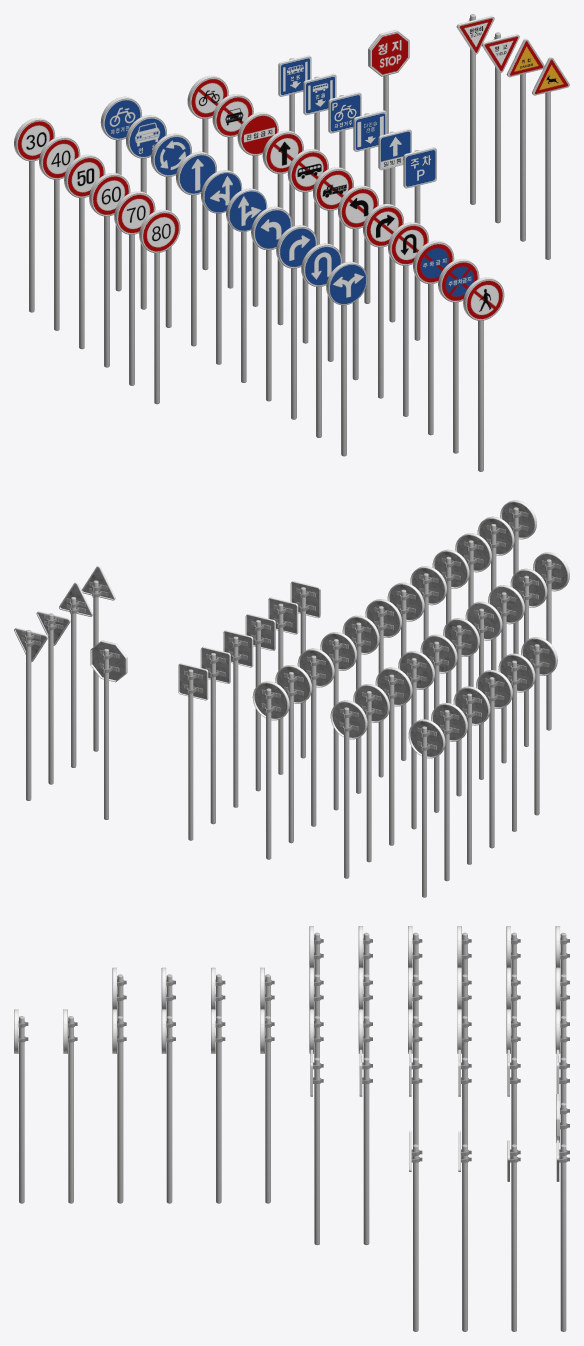
File: kr_road_signs_notbadworks.glb
3 views of the same model, one above another, from view 1: azimuth 30°, elevation 25°; view 2: azimuth 150°, elevation 25°; view 3: azimuth 270°, elevation 25° (orthographic). The views are drawn at different scales.
Visible parts, largest first — view 1: Base_LP_octogone_basenew, Base_LP_50_circle_6, Base_LP_50_circle_17, Base_LP_50_circle_7, Base_LP_50_circle_26, Base_LP_50_circle_9, Base_LP_50_circle_4, Base_LP_50_circle_10, Base_LP_50_circle_18, Base_LP_50_circle_11, Base_LP_50_circle, Base_LP_50_circle_2 (+62 smaller); view 2: Pole_LP_32, Pole_LP_34, Pole_LP_28, Pole_LP_37, Pole_LP_38, Pole_LP_39, Pole_LP_16, Pole_LP_33, Pole_LP_14, Pole_LP_26, Pole_LP_6, Pole_LP_2 (+62 smaller); view 3: Pole_LP_19, Pole_LP_20, Pole_LP_30, Pole_LP_39, Pole_LP_17, Pole_LP_18, Pole_LP_21, Pole_LP_22, Pole_LP_29, Pole_LP_36, Pole_LP_38, Pole_LP_37.
Boxes of the visible parts, x1,y1,x2,y2 form: Base_LP_octogone_basenew: [368, 29, 409, 76]; Base_LP_50_circle_6: [139, 209, 180, 253]; Base_LP_50_circle_17: [463, 277, 504, 320]; Base_LP_50_circle_7: [326, 261, 367, 305]; Base_LP_50_circle_26: [237, 112, 278, 155]; Base_LP_50_circle_9: [276, 225, 317, 268]; Base_LP_50_circle_4: [89, 173, 130, 216]; Base_LP_50_circle_10: [251, 206, 292, 250]; Base_LP_50_circle_18: [438, 259, 479, 302]; Base_LP_50_circle_11: [226, 188, 267, 231]; Base_LP_50_circle: [14, 118, 55, 161]; Base_LP_50_circle_2: [39, 136, 80, 179]; Pole_LP_32: [233, 636, 238, 807]; Pole_LP_34: [188, 669, 193, 840]; Pole_LP_28: [266, 688, 271, 859]; Pole_LP_37: [71, 597, 76, 767]; Pole_LP_38: [48, 613, 53, 784]; Pole_LP_39: [26, 630, 31, 800]; Pole_LP_16: [344, 707, 349, 878]; Pole_LP_33: [210, 653, 215, 824]; Pole_LP_14: [389, 674, 394, 845]; Pole_LP_26: [311, 655, 316, 826]; Pole_LP_6: [534, 644, 539, 815]; Pole_LP_2: [444, 710, 449, 881]; Pole_LP_19: [117, 1016, 123, 1203]; Pole_LP_20: [166, 1016, 172, 1203]; Pole_LP_30: [363, 1057, 369, 1245]; Pole_LP_39: [560, 1144, 566, 1331]; Pole_LP_17: [19, 1016, 24, 1203]; Pole_LP_18: [68, 1016, 73, 1203]; Pole_LP_21: [216, 1016, 221, 1203]; Pole_LP_22: [265, 1016, 270, 1203]; Pole_LP_29: [314, 1057, 319, 1245]; Pole_LP_36: [413, 1144, 418, 1331]; Pole_LP_38: [511, 1144, 516, 1331]; Pole_LP_37: [462, 1144, 467, 1331].
Bounding box in the file's own units: 6.63 × 2.69 × 6.77.
42 materials, 39 textured.
